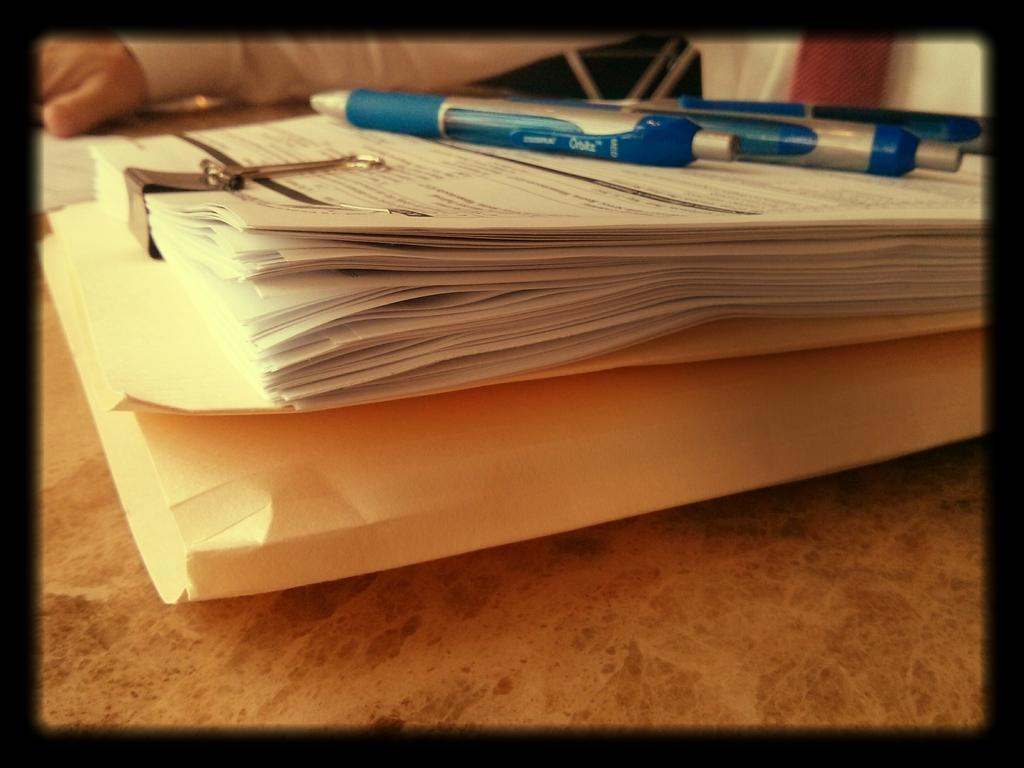pen: (305, 86, 742, 169), (514, 103, 966, 177)
